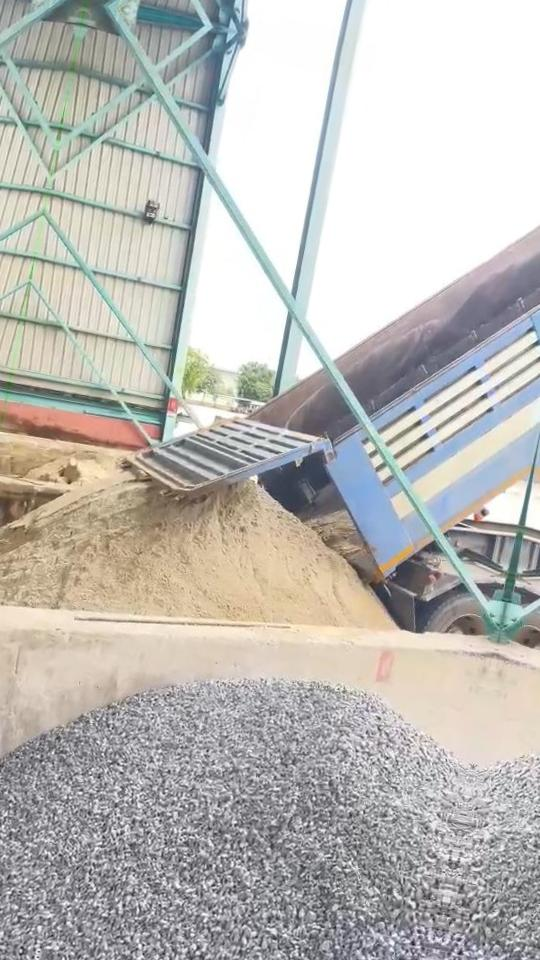gravel: (0, 682, 471, 960)
sand: (0, 477, 393, 629), (308, 510, 376, 580), (27, 456, 109, 485)
